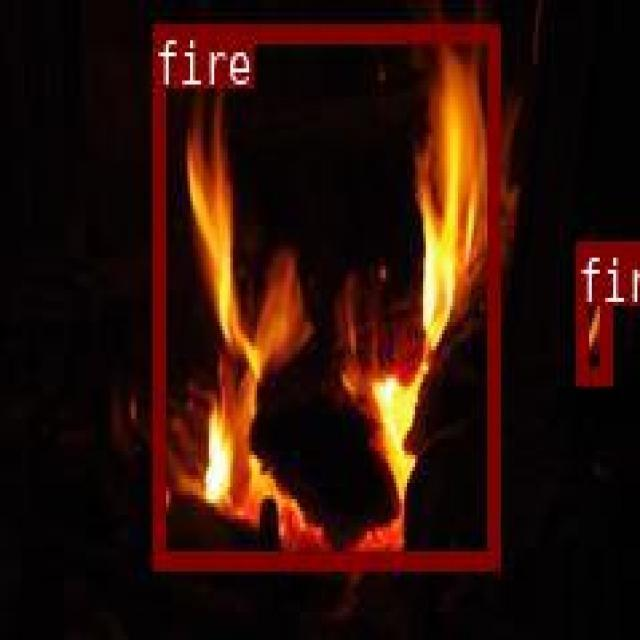fire: (151, 21, 497, 566), (575, 240, 610, 380)
